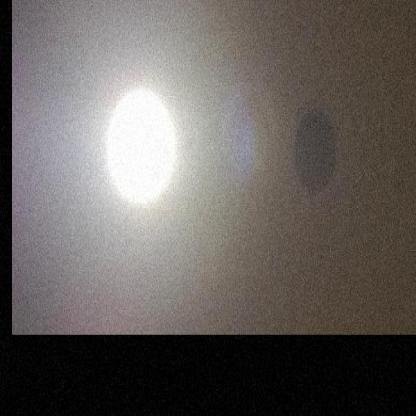light_off: (281, 75, 347, 217)
